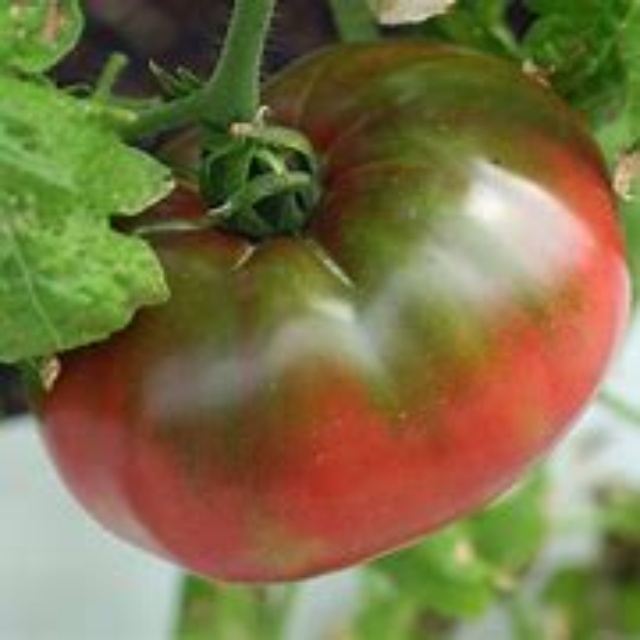tomato: (36, 38, 628, 580)
